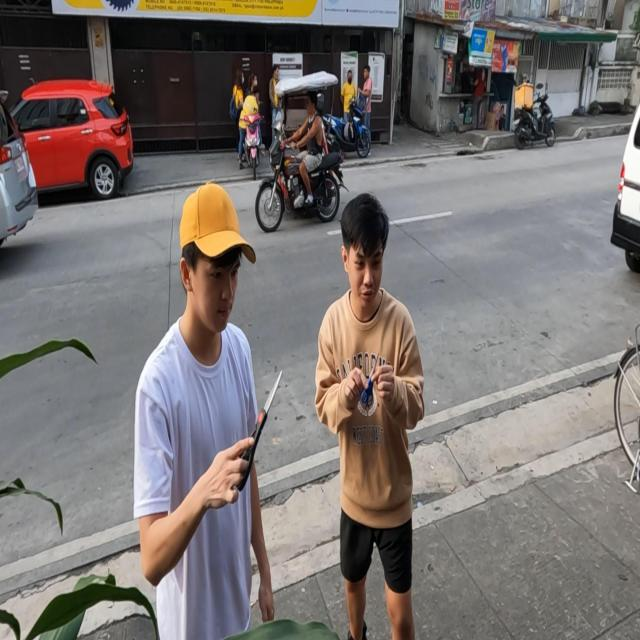scissor: (236, 369, 283, 491), (362, 352, 381, 407)
